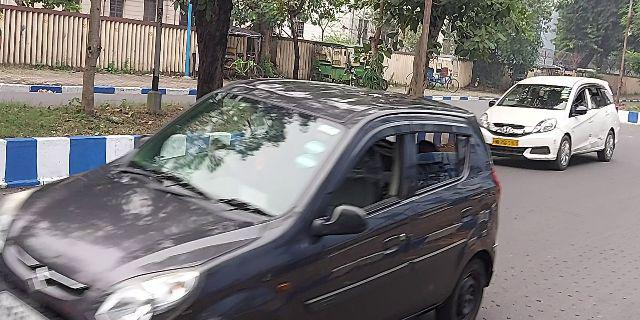Car: (1, 72, 494, 320), (475, 74, 624, 168)
